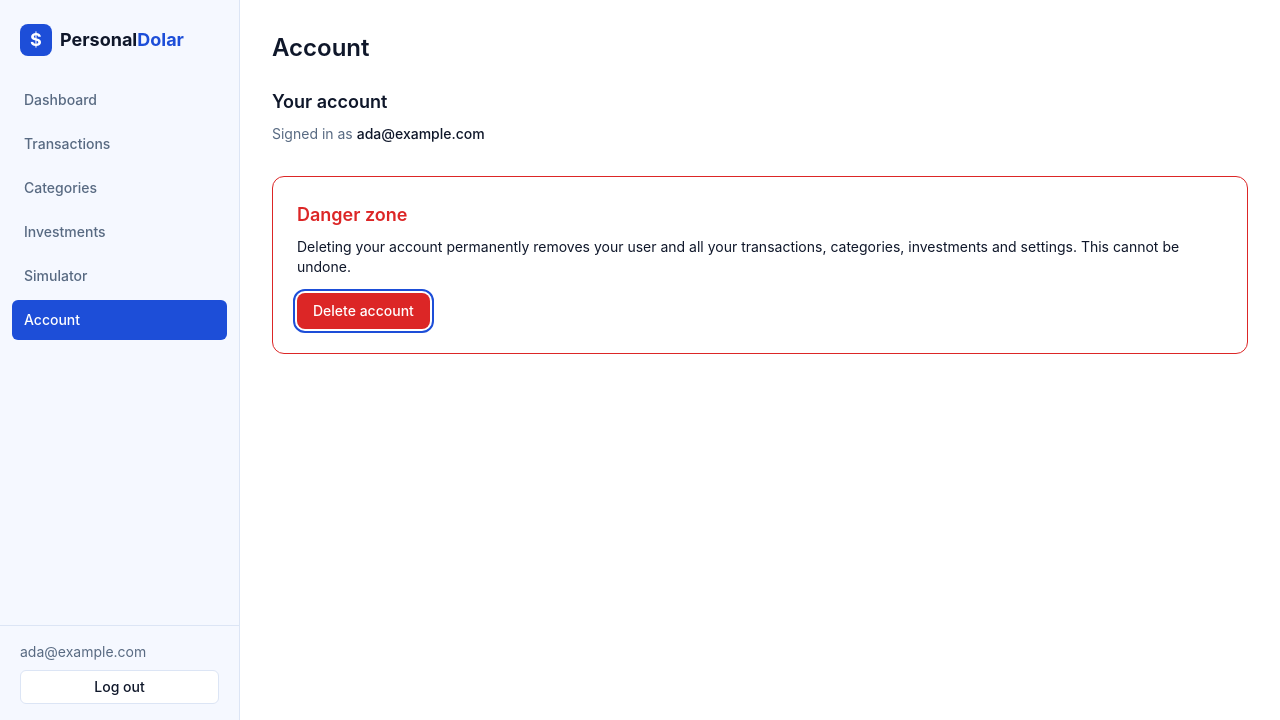
Account page › submits with Enter in the field
Click the button "Delete account" at x=363, y=311, box [297,293,430,329]
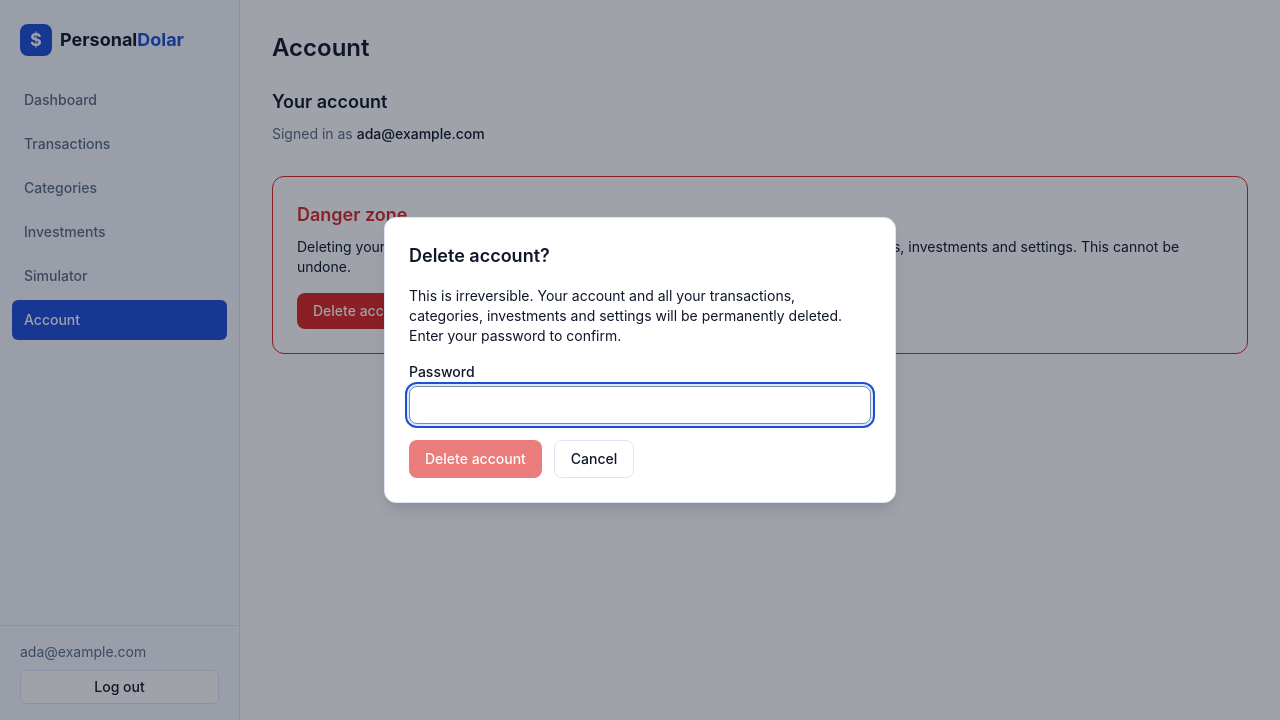
Type "secret123" into the password field labelled "Password" at x=640, y=405, box [409,386,871,424]
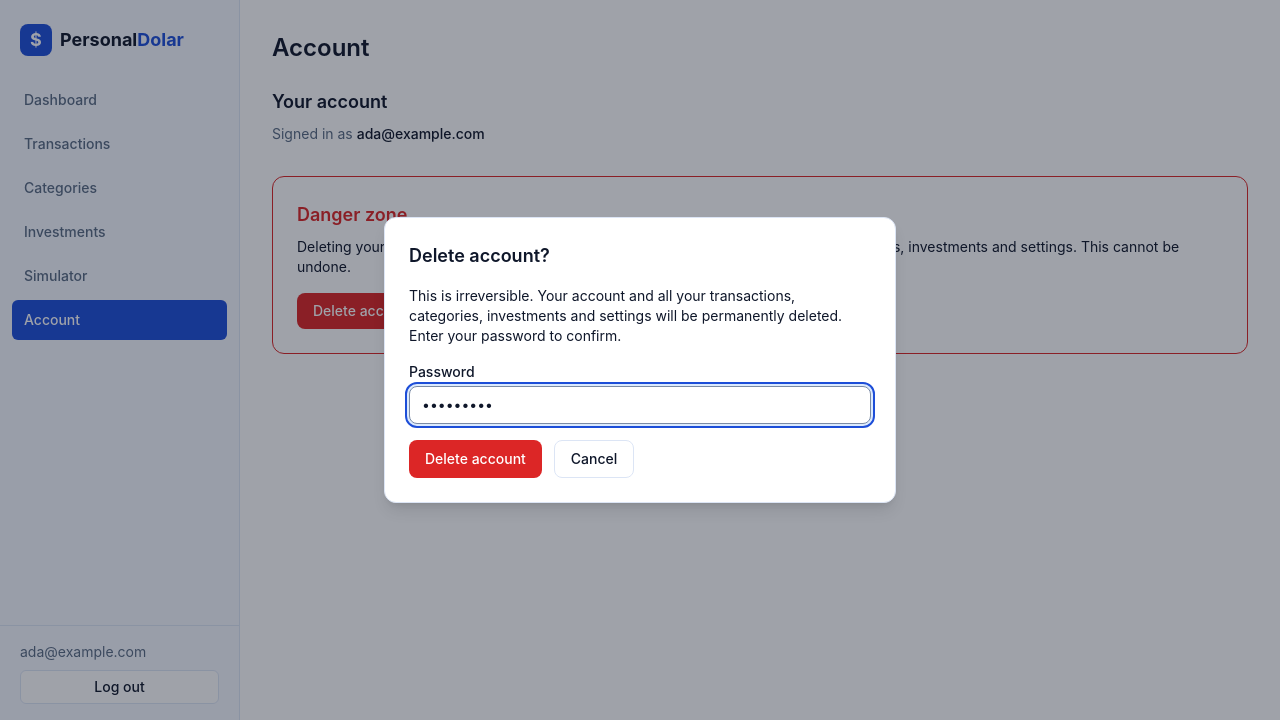
Submit the form named "Password", box [409,286,871,478]
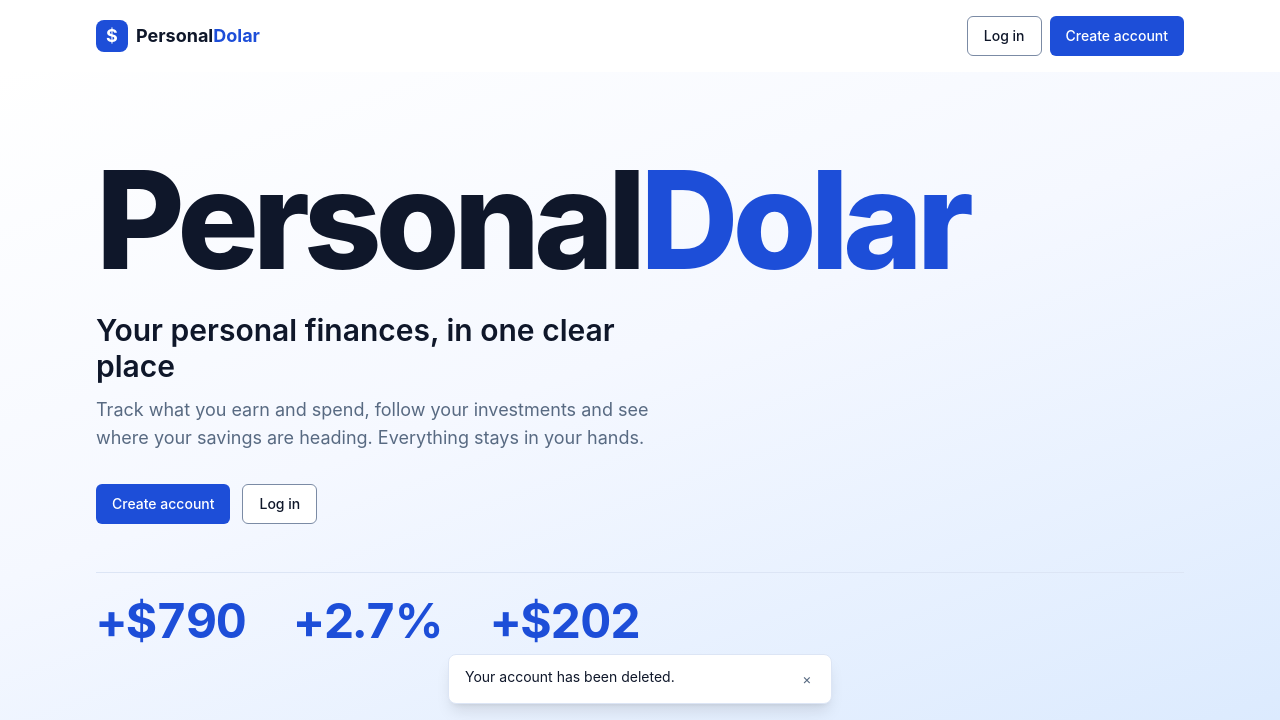
Check: the text "Your account has been deleted." is shown, box [465,668,675,685]
